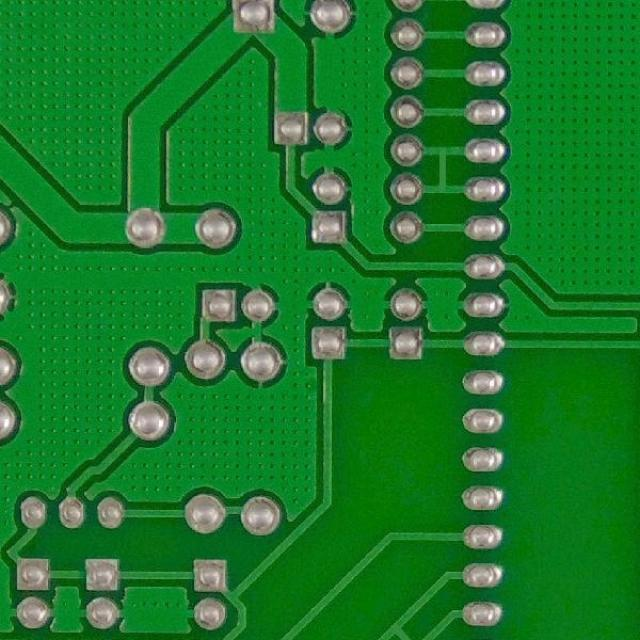short: (408, 141, 472, 200), (377, 613, 434, 639)
